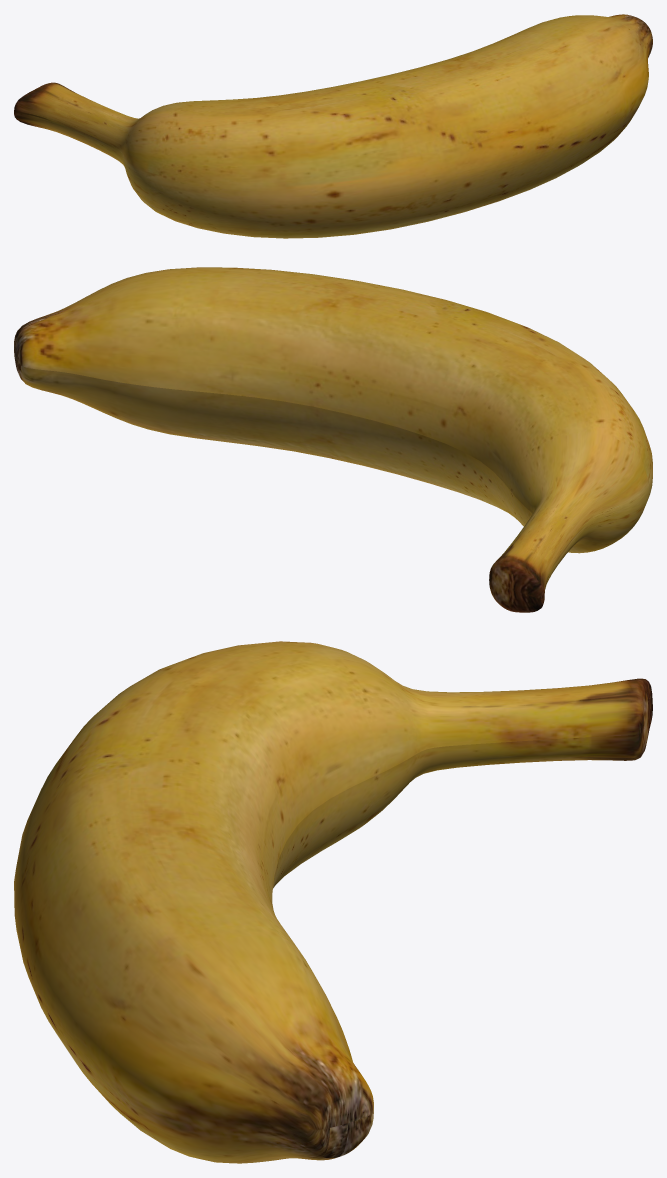
Rendered from Bananaz.FBX.
3 views of the same model, one above another, from view 1: azimuth 30°, elevation 25°; view 2: azimuth 150°, elevation 25°; view 3: azimuth 270°, elevation 25° (orthographic). The views are drawn at different scales.
Visible parts, largest first — view 1: Banana; view 2: Banana; view 3: Banana.
Boxes of the visible parts, x1=… form: Banana: x1=14, y1=14, x2=652, y2=238; Banana: x1=14, y1=267, x2=652, y2=612; Banana: x1=14, y1=641, x2=652, y2=1163.
Bounding box in the file's own units: 226 × 52.35 × 134.
Materials: 1 (1 with a texture image).
